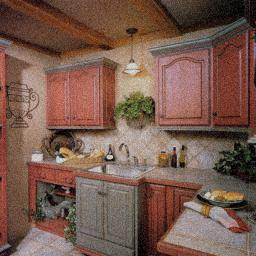Lavaplatos: (82, 143, 153, 181)
